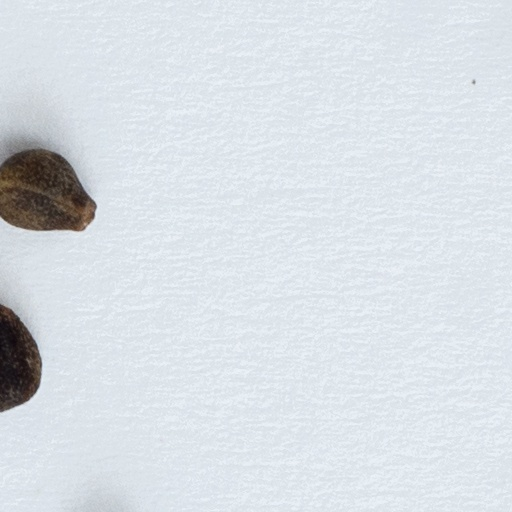Convolvulus-poly: (0, 144, 98, 232), (0, 298, 42, 413)
